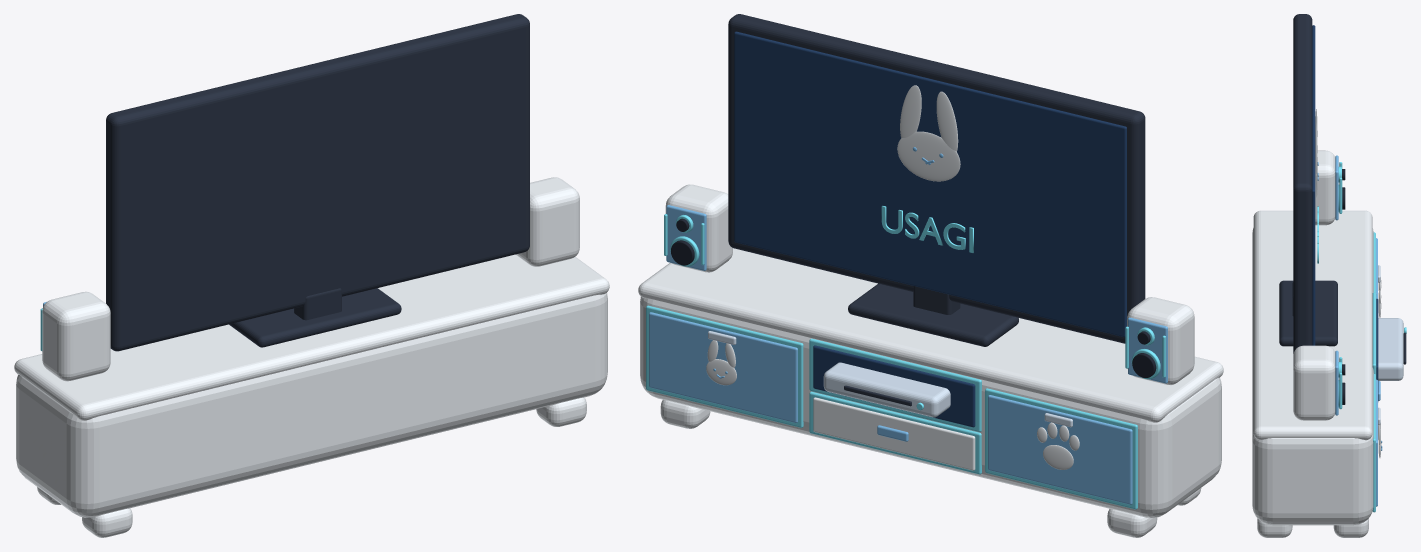
The picture shows the model from 3 angles, left to right: view 1: azimuth 30°, elevation 25°; view 2: azimuth 150°, elevation 25°; view 3: azimuth 270°, elevation 25°; orthographic projection. The views are drawn at different scales.
Parts seen in each view (by area): view 1: Console_Body; view 2: Console_Body; view 3: Console_Body.
Part boxes in pixels (bbox=[...]): Console_Body: bbox=[14, 14, 609, 537]; Console_Body: bbox=[638, 14, 1223, 537]; Console_Body: bbox=[1252, 14, 1406, 537].
Size of the model in its own units: 180 by 52.55 by 128.
